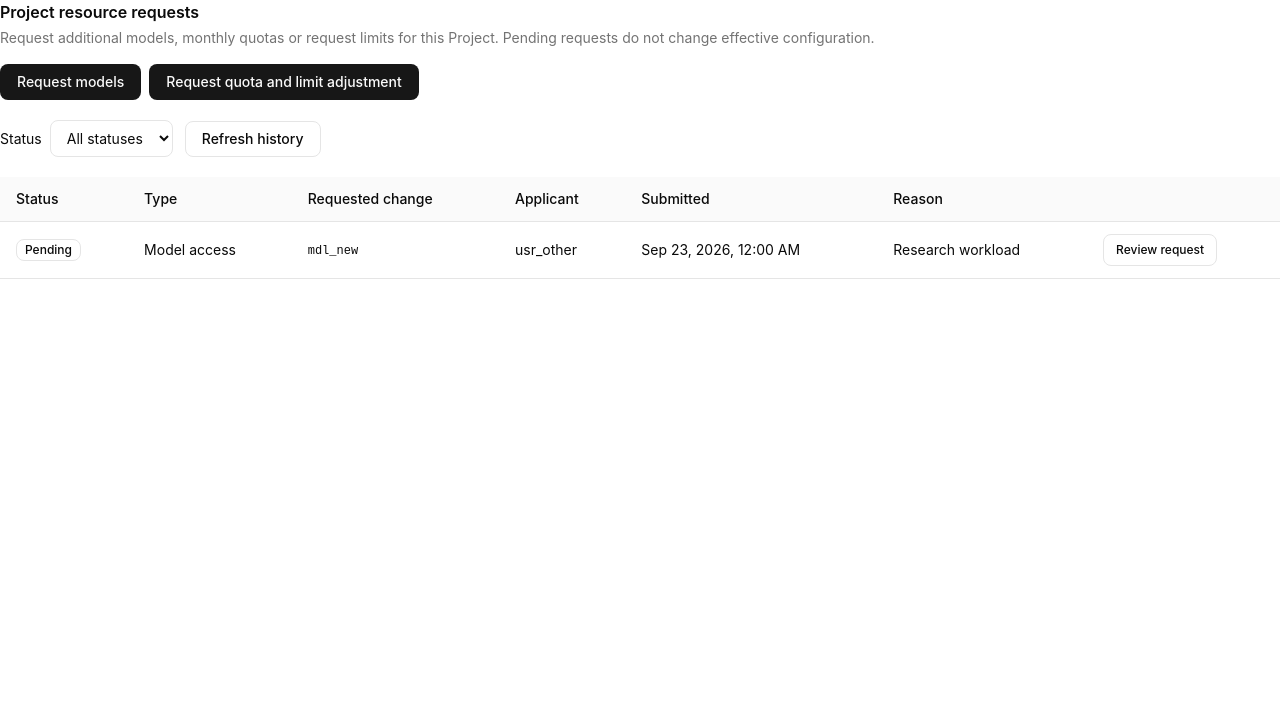
Scenario: Project model requests › saves a nonself approval and refreshes history without changing the baseline into a grant payload
Click the button "Review request". click: (1160, 250)
box: [1103, 234, 1217, 266]
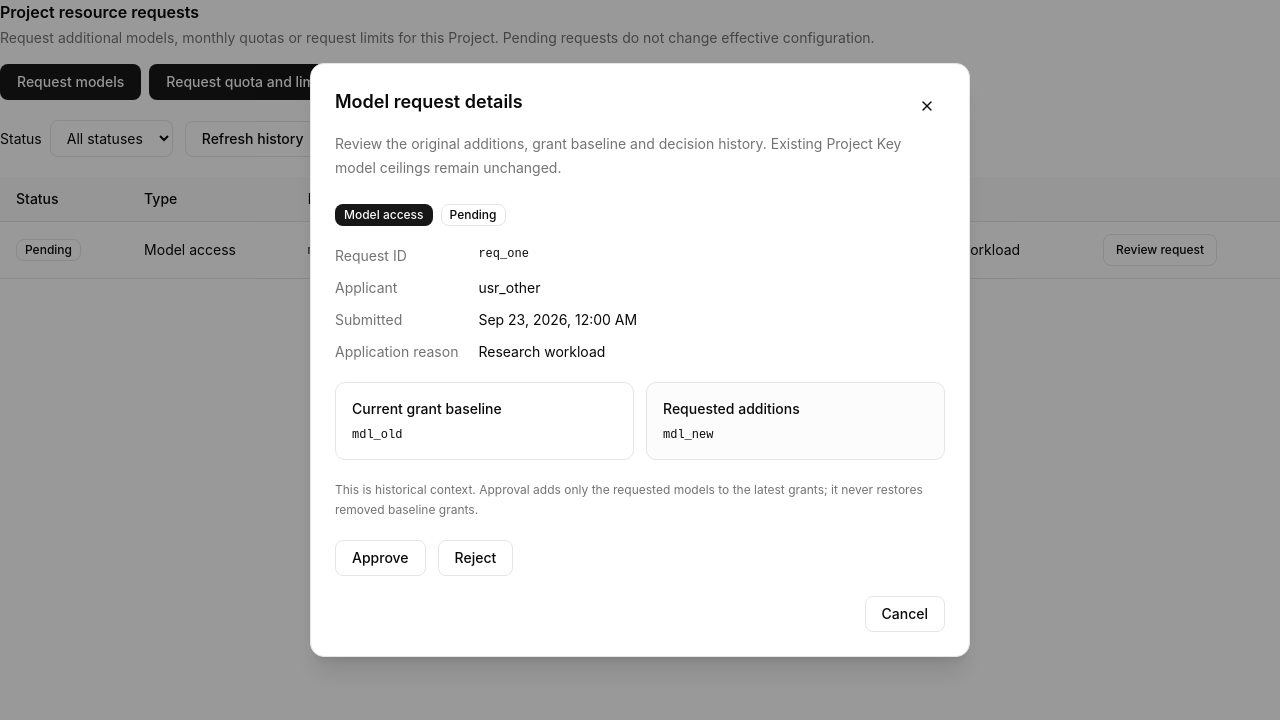
Now the button "Approve" is shown
Click the button "Approve". click: (380, 558)
box: [335, 540, 426, 576]
(page scrolled)
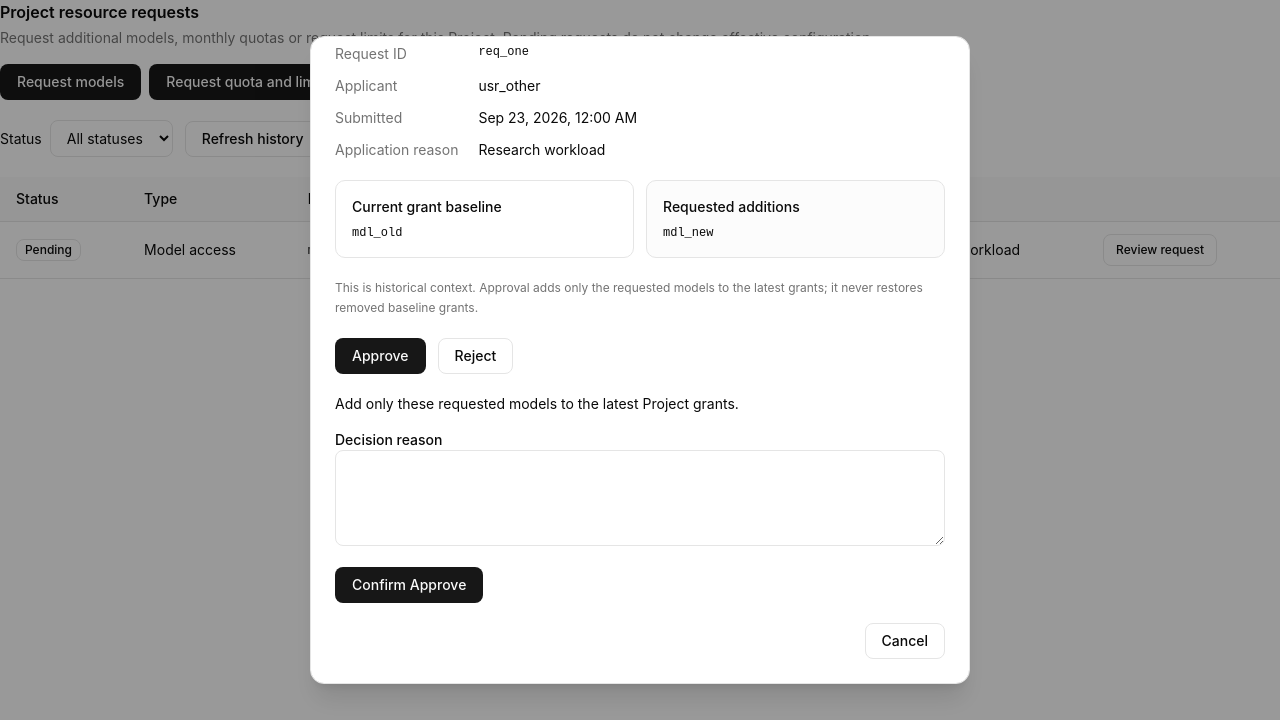
Now the button "Confirm Approve" is shown
Click the button "Confirm Approve". click: (409, 585)
box: [335, 567, 483, 603]
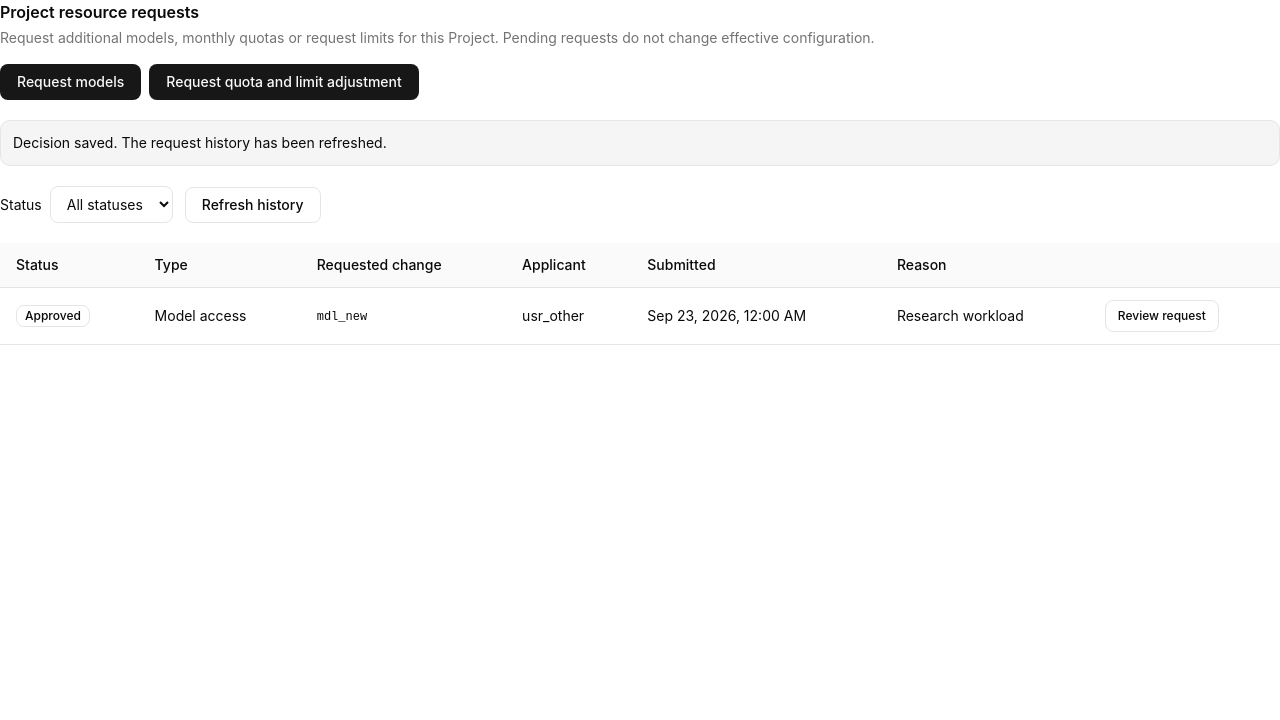
Expected: the text "Research workload" is shown, [897, 307, 1024, 324]
Now the text "Decision saved. The request history has been refreshed." is shown, box [0, 120, 1279, 166]
Click the button "Review request". click: (1162, 316)
box: [1105, 300, 1219, 332]
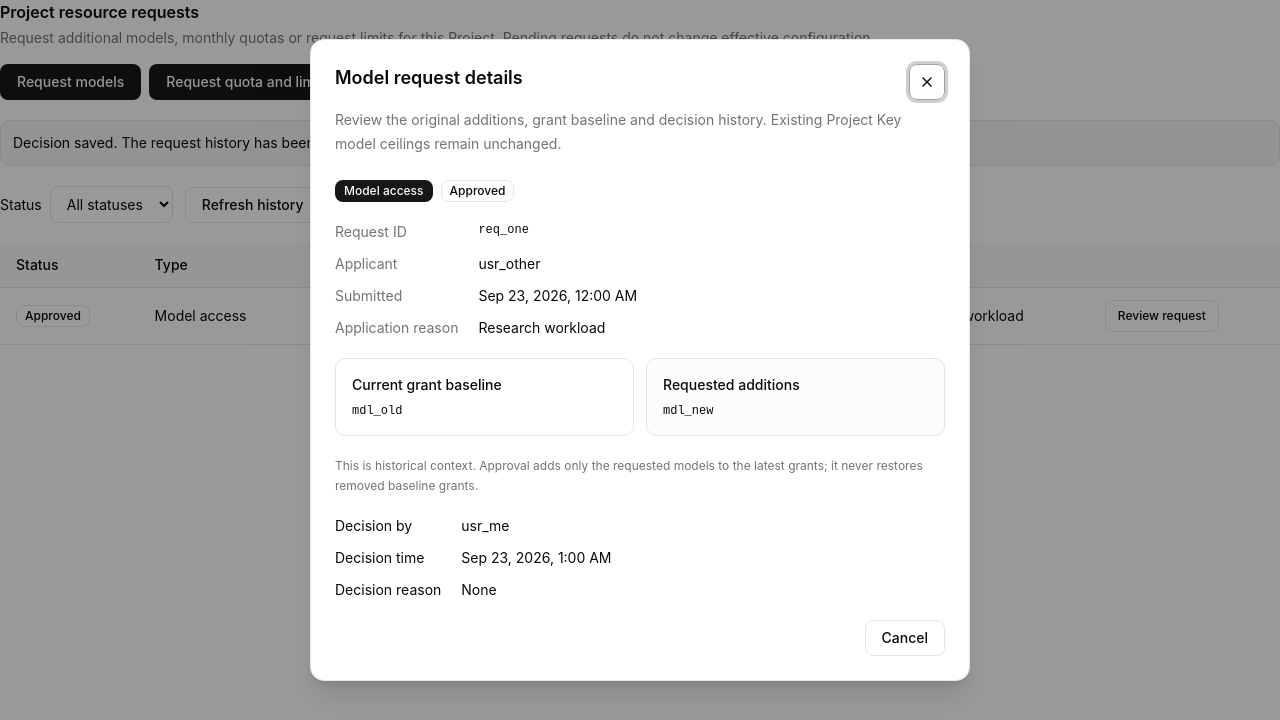
Expected: the text "mdl_new" is shown, [317, 310, 367, 324]
Now the text "Approved" is shown, box [16, 305, 90, 327]
Now the text "mdl_old" is shown, box [352, 404, 402, 418]
